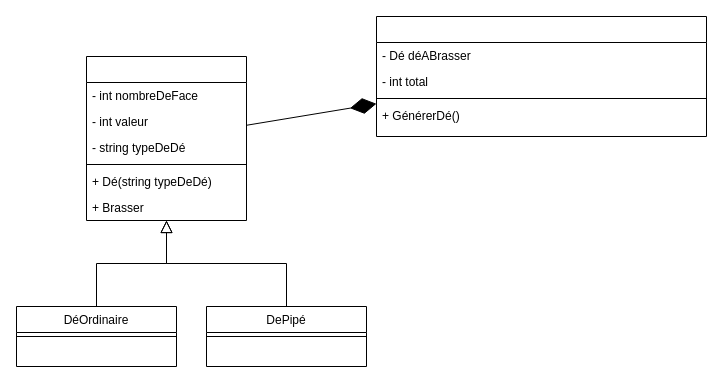
Some shapes in this 723 by 383 pixel diagram are drawn without their labels. Here are the shapes that lost their labels. From the top down, the box of each, then its label:
(376, 16, 706, 136): Controleur
(86, 56, 246, 220): Dé
